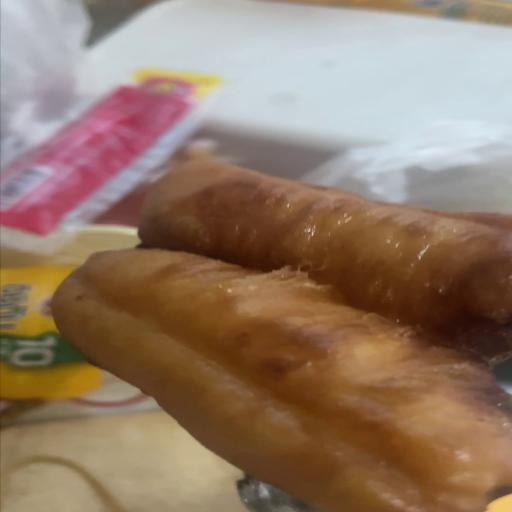street_burnt_good: (52, 158, 512, 512)
